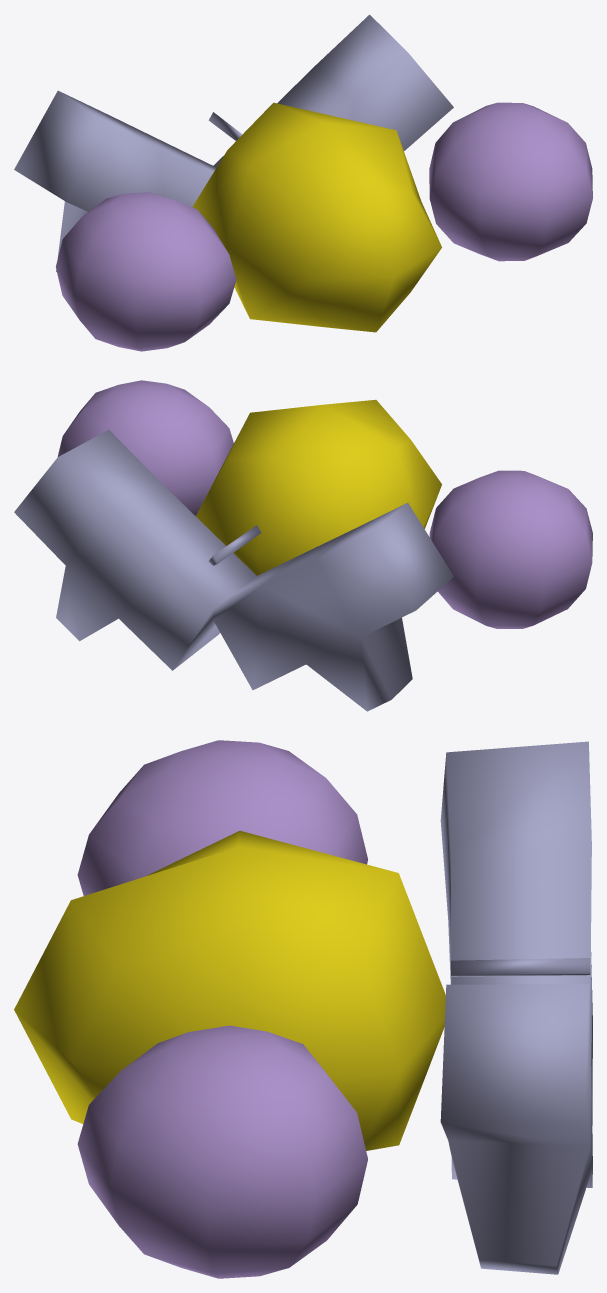
The model's file is ship_13.gltf.
The picture shows the model from 3 angles, top to bottom: view 1: azimuth 30°, elevation 25°; view 2: azimuth 150°, elevation 25°; view 3: azimuth 270°, elevation 25°; orthographic projection. The views are drawn at different scales.
Visible parts, largest first — view 1: gtlf; view 2: gtlf; view 3: gtlf.
Part boxes in pixels (x1,y1,x2,y2): gtlf: (14,14,592,351); gtlf: (14,380,592,711); gtlf: (14,740,592,1278).
Size of the model in its own units: 1.31 by 0.495 by 0.7984.
